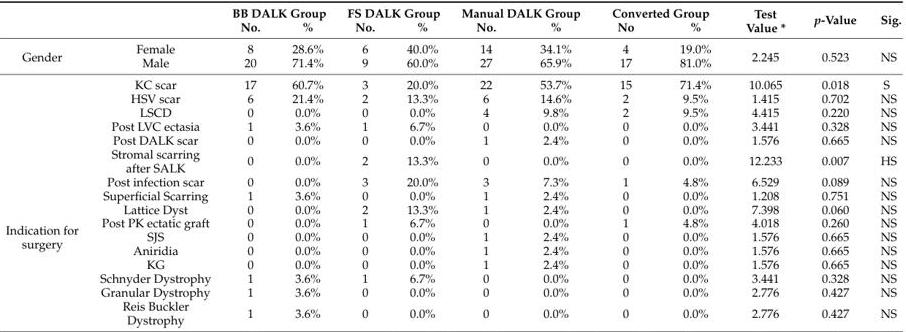table: (5, 5, 900, 327)
table column: (88, 5, 221, 327), (5, 5, 88, 327), (517, 5, 595, 327), (656, 5, 728, 327), (728, 5, 799, 327), (799, 5, 868, 327), (450, 5, 517, 327), (275, 5, 336, 327), (595, 5, 656, 327), (390, 5, 450, 327), (221, 5, 275, 327), (336, 5, 390, 327), (868, 5, 900, 327)
table column header: (5, 5, 900, 38)
table row: (5, 298, 900, 327), (5, 146, 900, 174), (5, 19, 900, 38), (5, 55, 900, 73), (5, 73, 900, 91), (5, 38, 900, 55), (5, 5, 900, 19), (5, 91, 900, 105), (5, 105, 900, 119), (5, 132, 900, 146), (5, 174, 900, 188), (5, 188, 900, 202), (5, 215, 900, 229), (5, 229, 900, 243), (5, 243, 900, 257), (5, 257, 900, 271), (5, 271, 900, 285), (5, 119, 900, 132), (5, 202, 900, 215), (5, 285, 900, 298)
table spanning cell: (5, 73, 88, 327), (5, 38, 88, 73), (728, 38, 799, 73), (799, 38, 868, 73), (728, 5, 799, 38), (799, 5, 868, 38), (450, 5, 595, 19), (595, 5, 728, 19), (221, 5, 336, 19), (336, 5, 450, 19), (868, 38, 900, 73), (868, 5, 900, 38)
